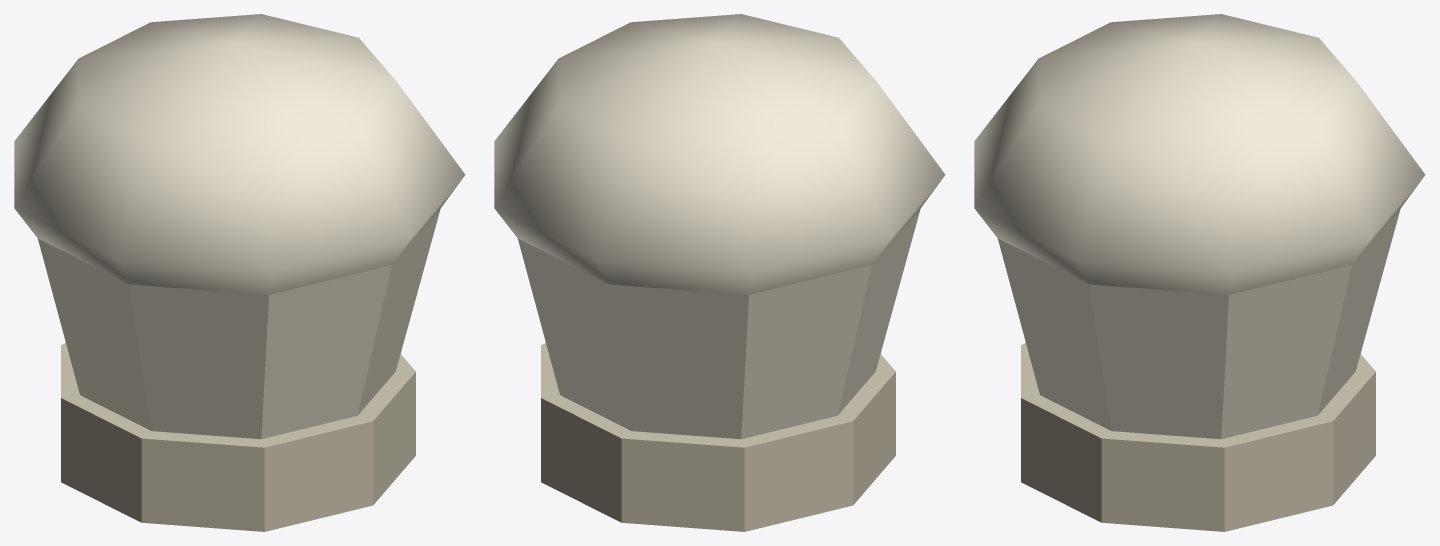
File: npc_toque.glb
3 renders of one model, left to right at view 1: azimuth 30°, elevation 25°; view 2: azimuth 150°, elevation 25°; view 3: azimuth 270°, elevation 25°, orthographic.
Visible parts, largest first — view 1: part.npc_toque; view 2: part.npc_toque; view 3: part.npc_toque.
Part boxes in pixels (x1=…): part.npc_toque: x1=14, y1=14, x2=465, y2=531; part.npc_toque: x1=494, y1=14, x2=945, y2=531; part.npc_toque: x1=974, y1=14, x2=1425, y2=531.
Bounding box in the file's own units: 0.2954 × 0.293 × 0.291.
